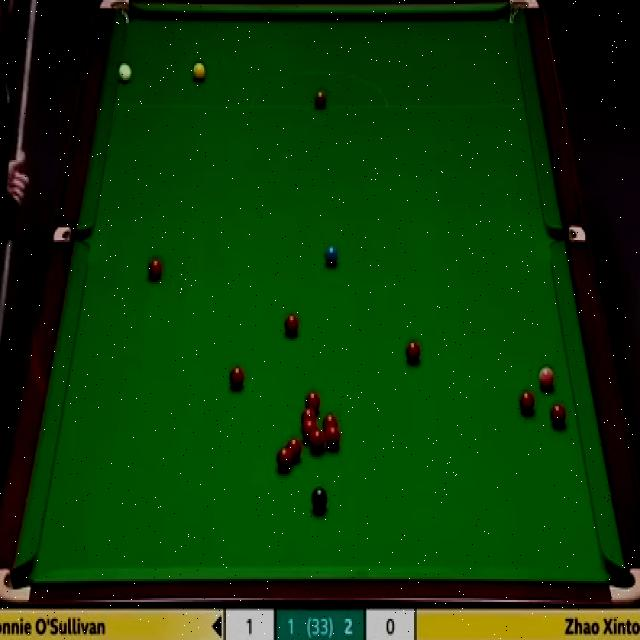black-ball: (310, 486, 328, 509)
blue-ball: (324, 244, 341, 267)
brown-ball: (313, 89, 326, 109)
pink-ball: (537, 366, 556, 390)
red-ball: (519, 387, 535, 415), (549, 402, 566, 427), (284, 312, 300, 338), (286, 436, 302, 462), (277, 445, 293, 471), (404, 339, 421, 362), (326, 424, 341, 450), (147, 258, 162, 282), (304, 390, 320, 412), (229, 364, 244, 387), (310, 429, 325, 452), (300, 407, 316, 426), (302, 420, 316, 441), (322, 412, 339, 428)
white-ball: (117, 62, 133, 84)
yellow-ball: (192, 62, 205, 84)
